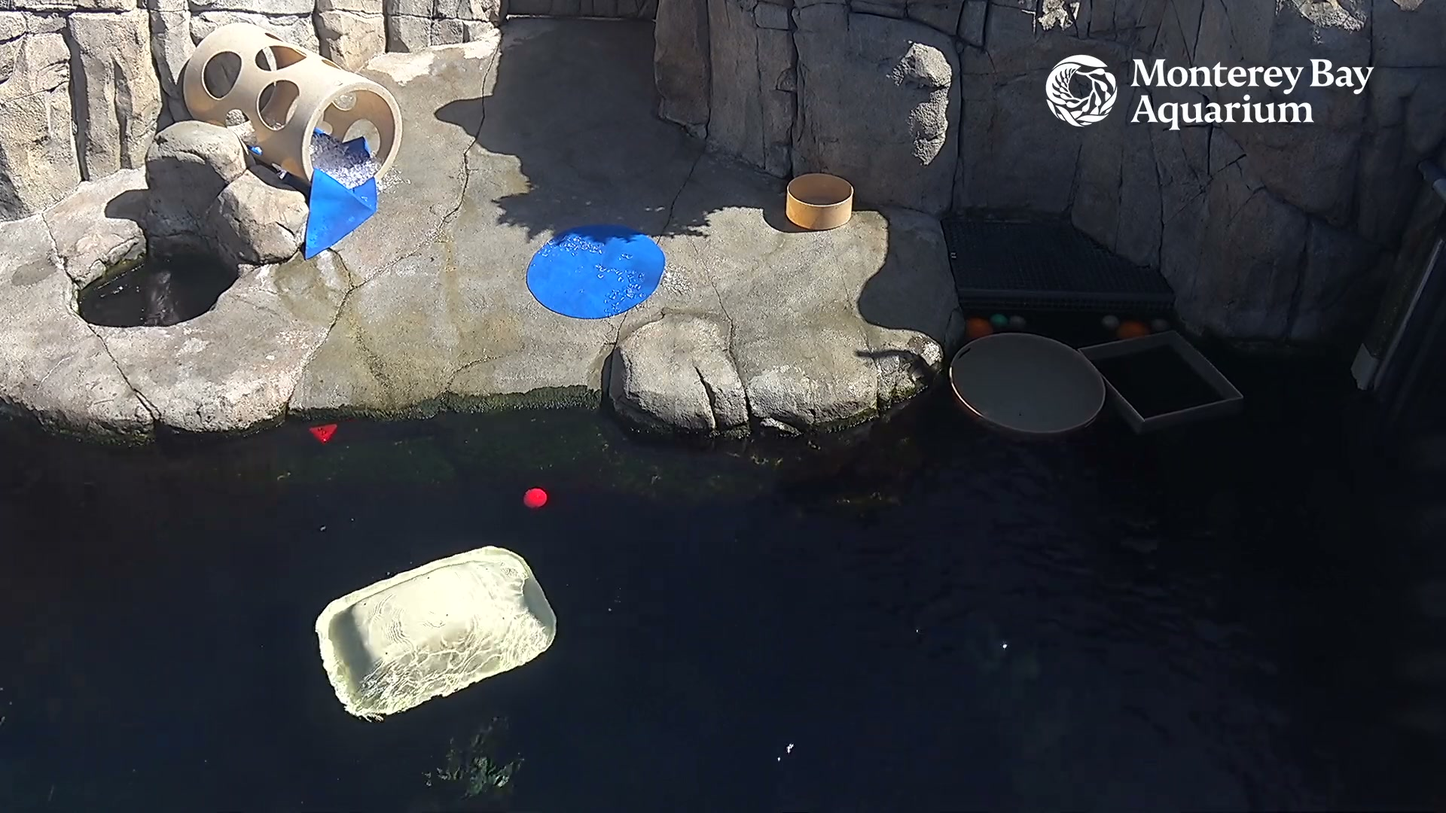Southern Sea Otter: (146, 271, 178, 329)
